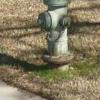Hydrant: (34, 0, 77, 68)
